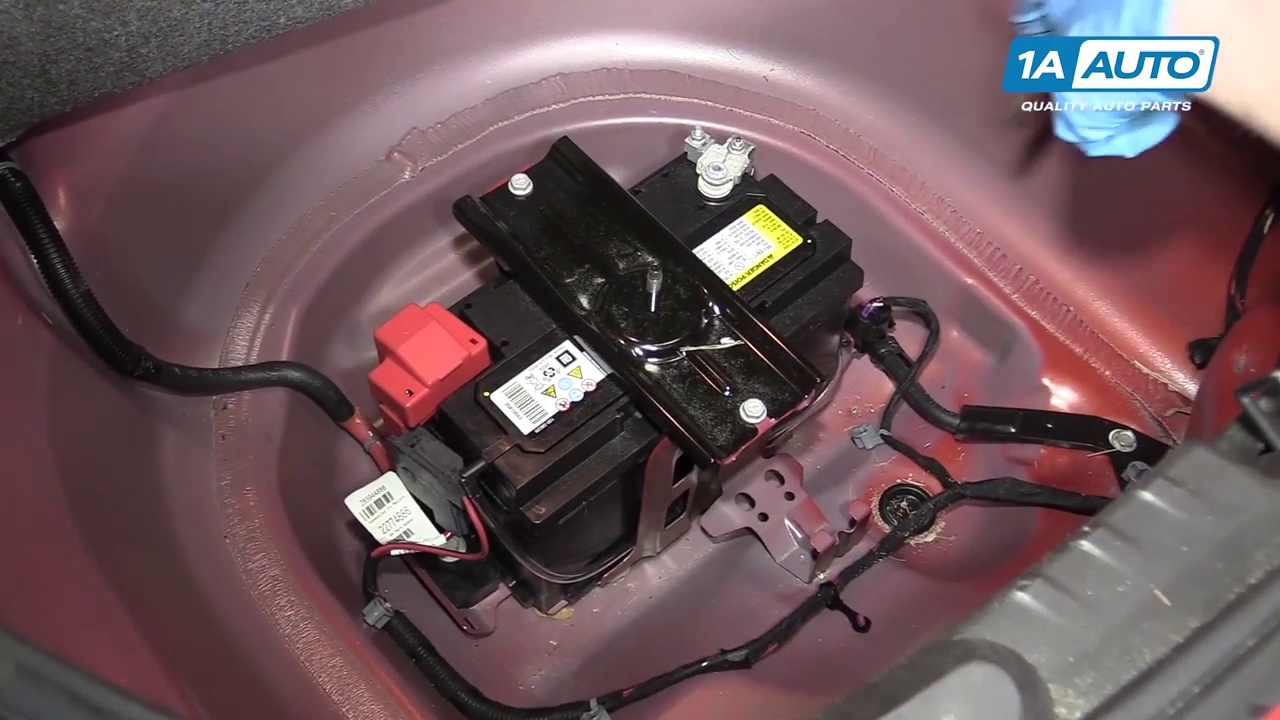battery: (363, 126, 867, 516)
neg_connected: (645, 99, 796, 211)
pos_connected: (335, 282, 511, 434)
